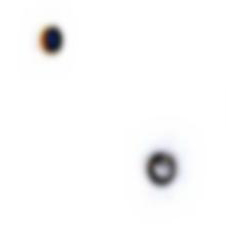cancer: (131, 134, 195, 197)
normal: (32, 19, 81, 64)
